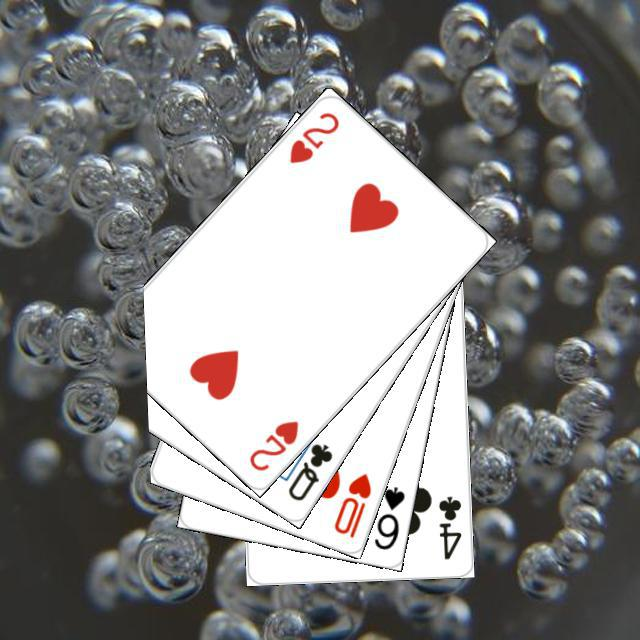10h: (329, 468, 373, 540)
2h: (284, 106, 341, 165), (244, 415, 301, 473)
4c: (433, 491, 464, 561)
6s: (369, 482, 406, 552)
Qc: (277, 426, 335, 503)
